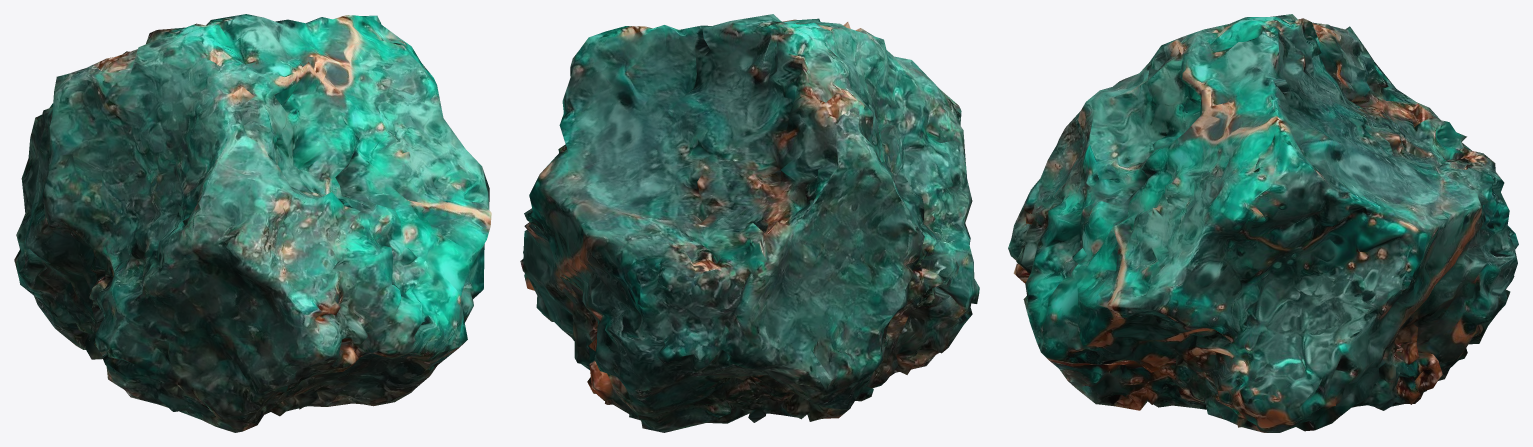
The model's file is qr_vein3.glb.
The picture shows the model from 3 angles, left to right: view 1: azimuth 30°, elevation 25°; view 2: azimuth 150°, elevation 25°; view 3: azimuth 270°, elevation 25°; orthographic projection. The views are drawn at different scales.
Visible parts, largest first — view 1: tripo_node_47f9808a-39d6-4592-a283-0fc855f802cb; view 2: tripo_node_47f9808a-39d6-4592-a283-0fc855f802cb; view 3: tripo_node_47f9808a-39d6-4592-a283-0fc855f802cb.
Part boxes in pixels (left/top/right/bottom): tripo_node_47f9808a-39d6-4592-a283-0fc855f802cb: left=14, top=14, right=491, bottom=432; tripo_node_47f9808a-39d6-4592-a283-0fc855f802cb: left=520, top=14, right=979, bottom=432; tripo_node_47f9808a-39d6-4592-a283-0fc855f802cb: left=1008, top=14, right=1518, bottom=432.
Size of the model in its own units: 0.8684 by 0.7308 by 1.
Materials: 1 (1 with a texture image).
